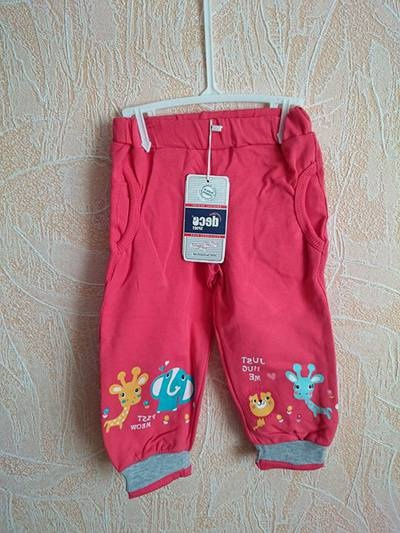Pants: (63, 86, 351, 504)
